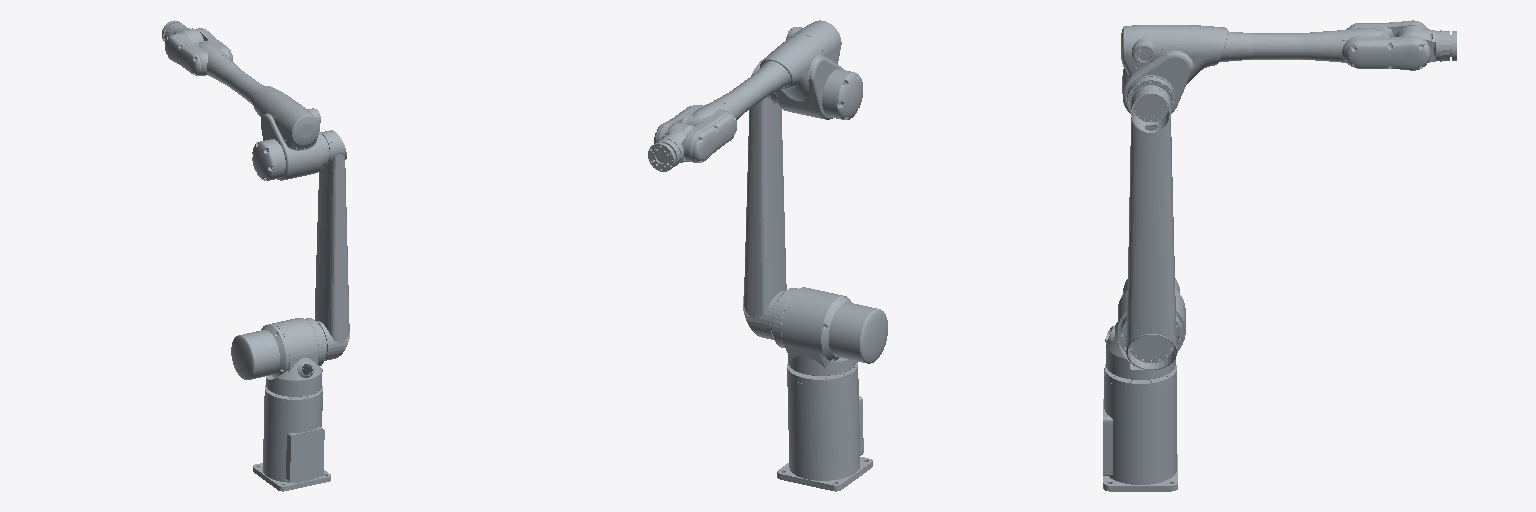
URDF robot description (Elbot_ros):
<?xml version="1.0" encoding="utf-8"?>
<!-- This URDF was automatically created by SolidWorks to URDF Exporter! Originally created by [author] ([email redacted]) 
     Commit Version: 1.6.0-4-g7f85cfe  Build Version: 1.6.7995.38578
     For more information, please see http://wiki.ros.org/sw_urdf_exporter -->
<robot
  name="Elbot_ros">
  <link
    name="base_link">
    <inertial>
      <origin
        xyz="0.00295941310288482 -0.00743196833930476 0.126764065183437"
        rpy="0 0 0" />
      <mass
        value="7.80883668381517" />
      <inertia
        ixx="0.0420498245916264"
        ixy="-2.79755768999179E-08"
        ixz="-0.000422848006205079"
        iyy="0.0424801251330047"
        iyz="-9.64120177077388E-09"
        izz="0.0245930353705393" />
    </inertial>
    <visual>
      <origin
        xyz="0 0 0"
        rpy="0 0 0" />
      <geometry>
        <mesh
          filename="meshes/base_link.STL" />
      </geometry>
      <material
        name="">
        <color
          rgba="0.674509803921569 0.709803921568627 0.737254901960784 1" />
      </material>
    </visual>
    <collision>
      <origin
        xyz="0 0 0"
        rpy="0 0 0" />
      <geometry>
        <mesh
          filename="meshes/base_link.STL" />
      </geometry>
    </collision>
  </link>
  <link
    name="arm1_Link">
    <inertial>
      <origin
        xyz="-0.025031781835328 -0.00487268478781618 0.100589091463699"
        rpy="0 0 0" />
      <mass
        value="0.48129436892084" />
      <inertia
        ixx="0.00117430008000726"
        ixy="7.92805799825543E-07"
        ixz="-1.05282603904915E-06"
        iyy="0.00170833545313737"
        iyz="-2.23208037140393E-06"
        izz="0.00117694469735702" />
    </inertial>
    <visual>
      <origin
        xyz="0 0 0"
        rpy="0 0 0" />
      <geometry>
        <mesh
          filename="meshes/arm1_Link.STL" />
      </geometry>
      <material
        name="">
        <color
          rgba="0.674509803921569 0.709803921568627 0.737254901960784 1" />
      </material>
    </visual>
    <collision>
      <origin
        xyz="0 0 0"
        rpy="0 0 0" />
      <geometry>
        <mesh
          filename="meshes/arm1_Link.STL" />
      </geometry>
    </collision>
  </link>
  <joint
    name="theta1"
    type="continuous">
    <origin
      xyz="0.0069442 0 0.28692"
      rpy="-0.024206 0 -1.5708" />
    <parent
      link="base_link" />
    <child
      link="arm1_Link" />
    <axis
      xyz="0 0 1" />
  </joint>
  <link
    name="arm2_Link">
    <inertial>
      <origin
        xyz="2.19305339069914E-06 0.228629335109454 0.0161610974740906"
        rpy="0 0 0" />
      <mass
        value="0.224698285954227" />
      <inertia
        ixx="0.000235973349843661"
        ixy="8.51433943582718E-09"
        ixz="-1.25761263181806E-08"
        iyy="0.000253881675123096"
        iyz="-1.33902215548025E-05"
        izz="0.000429628860315079" />
    </inertial>
    <visual>
      <origin
        xyz="0 0 0"
        rpy="0 0 0" />
      <geometry>
        <mesh
          filename="meshes/arm2_Link.STL" />
      </geometry>
      <material
        name="">
        <color
          rgba="0.674509803921569 0.709803921568627 0.737254901960784 1" />
      </material>
    </visual>
    <collision>
      <origin
        xyz="0 0 0"
        rpy="0 0 0" />
      <geometry>
        <mesh
          filename="meshes/arm2_Link.STL" />
      </geometry>
    </collision>
  </link>
  <joint
    name="theta2"
    type="continuous">
    <origin
      xyz="-0.025 0.091 0.1005"
      rpy="1.5708 -0.0024813 -3.1416" />
    <parent
      link="arm1_Link" />
    <child
      link="arm2_Link" />
    <axis
      xyz="0 0 1" />
  </joint>
  <link
    name="arm3_Link">
    <inertial>
      <origin
        xyz="5.50885703692883E-07 3.24750299873777E-07 0.0942813065708078"
        rpy="0 0 0" />
      <mass
        value="0.235252200197637" />
      <inertia
        ixx="0.000297517377036216"
        ixy="1.88010496883117E-09"
        ixz="-7.23216666910942E-10"
        iyy="0.000297533754403789"
        iyz="6.23877800862736E-10"
        izz="0.000533086493132978" />
    </inertial>
    <visual>
      <origin
        xyz="0 0 0"
        rpy="0 0 0" />
      <geometry>
        <mesh
          filename="meshes/arm3_Link.STL" />
      </geometry>
      <material
        name="">
        <color
          rgba="0.674509803921569 0.709803921568627 0.737254901960784 1" />
      </material>
    </visual>
    <collision>
      <origin
        xyz="0 0 0"
        rpy="0 0 0" />
      <geometry>
        <mesh
          filename="meshes/arm3_Link.STL" />
      </geometry>
    </collision>
  </link>
  <joint
    name="theta3"
    type="continuous">
    <origin
      xyz="0 0.6 0"
      rpy="3.1415 -7.7002E-05 3.1412" />
    <parent
      link="arm2_Link" />
    <child
      link="arm3_Link" />
    <axis
      xyz="-9.0662E-05 -0.00012137 1" />
  </joint>
  <link
    name="arm4_Link">
    <inertial>
      <origin
        xyz="7.69592982915231E-07 1.75521031264836E-06 0.14118874058488"
        rpy="0 0 0" />
      <mass
        value="1.48290073892508" />
      <inertia
        ixx="0.0063733151684906"
        ixy="1.13369248561194E-09"
        ixz="-5.32334993831461E-08"
        iyy="0.00637331428665315"
        iyz="-1.11766578894513E-07"
        izz="0.000734863912968276" />
    </inertial>
    <visual>
      <origin
        xyz="0 0 0"
        rpy="0 0 0" />
      <geometry>
        <mesh
          filename="meshes/arm4_Link.STL" />
      </geometry>
      <material
        name="">
        <color
          rgba="0.674509803921569 0.709803921568627 0.737254901960784 1" />
      </material>
    </visual>
    <collision>
      <origin
        xyz="0 0 0"
        rpy="0 0 0" />
      <geometry>
        <mesh
          filename="meshes/arm4_Link.STL" />
      </geometry>
    </collision>
  </link>
  <joint
    name="theta4"
    type="continuous">
    <origin
      xyz="-0.139328001364006 0.100000049714036 0.0930033042364249"
      rpy="3.14159265358979 1.5707963267949 0" />
    <parent
      link="arm3_Link" />
    <child
      link="arm4_Link" />
    <axis
      xyz="0 0 0.999999999962565" />
  </joint>
  <link
    name="arm5_Link">
    <inertial>
      <origin
        xyz="-0.0382958184594028 1.69025638931952E-05 0.0360125184128005"
        rpy="0 0 0" />
      <mass
        value="0.292551415172904" />
      <inertia
        ixx="0.000190330052195625"
        ixy="4.20379213760693E-07"
        ixz="3.33221181951922E-07"
        iyy="0.000204819861234067"
        iyz="-1.06268804786346E-07"
        izz="0.000303621539321977" />
    </inertial>
    <visual>
      <origin
        xyz="0 0 0"
        rpy="0 0 0" />
      <geometry>
        <mesh
          filename="meshes/arm5_Link.STL" />
      </geometry>
      <material
        name="">
        <color
          rgba="0.674509803921569 0.709803921568627 0.737254901960784 1" />
      </material>
    </visual>
    <collision>
      <origin
        xyz="0 0 0"
        rpy="0 0 0" />
      <geometry>
        <mesh
          filename="meshes/arm5_Link.STL" />
      </geometry>
    </collision>
  </link>
  <joint
    name="theta5"
    type="continuous">
    <origin
      xyz="0.0360031369350031 0 0.457746768693452"
      rpy="1.19658489760141 1.57077884093144 -1.94500775593408" />
    <parent
      link="arm4_Link" />
    <child
      link="arm5_Link" />
    <axis
      xyz="0 0 1" />
  </joint>
  <link
    name="arm6_Link">
    <inertial>
      <origin
        xyz="1.98640850213039E-07 -0.000138218519929802 0.00216138199384996"
        rpy="0 0 0" />
      <mass
        value="0.0290061921693198" />
      <inertia
        ixx="1.03433141143914E-05"
        ixy="-6.18382345917164E-12"
        ixz="1.89059954303282E-12"
        iyy="1.0472342349351E-05"
        iyz="-6.47228188158355E-10"
        izz="2.03986639183088E-05" />
    </inertial>
    <visual>
      <origin
        xyz="0 0 0"
        rpy="0 0 0" />
      <geometry>
        <mesh
          filename="meshes/arm6_Link.STL" />
      </geometry>
      <material
        name="">
        <color
          rgba="0.674509803921569 0.709803921568627 0.737254901960784 1" />
      </material>
    </visual>
    <collision>
      <origin
        xyz="0 0 0"
        rpy="0 0 0" />
      <geometry>
        <mesh
          filename="meshes/arm6_Link.STL" />
      </geometry>
    </collision>
  </link>
  <joint
    name="theta6"
    type="continuous">
    <origin
      xyz="-0.0919195413583693 -1.26370777393525E-05 0.0357989985495665"
      rpy="1.5707963267949 0 -1.5707963267949" />
    <parent
      link="arm5_Link" />
    <child
      link="arm6_Link" />
    <axis
      xyz="0 0 0.999999999999926" />
  </joint>
</robot>

--- Facts derived from the render (not from the file) ---
The picture shows the robot from 3 angles, left to right: view 1: azimuth 30°, elevation 25°; view 2: azimuth 150°, elevation 25°; view 3: azimuth 270°, elevation 25°; orthographic projection.
Model Elbot_ros with 7 links and 6 joints (6 continuous), rooted at base_link, posed all joints at 0.
Visible links, largest first — view 1: arm2_Link, base_link, arm1_Link, arm3_Link, arm4_Link; view 2: base_link, arm2_Link, arm1_Link, arm3_Link, arm4_Link, arm5_Link, arm6_Link; view 3: arm2_Link, base_link, arm4_Link, arm3_Link, arm1_Link, arm5_Link.
Boxes of the visible links, x1,y1,x2,y2 form: arm2_Link: [315, 130, 349, 360]; base_link: [253, 385, 330, 491]; arm1_Link: [231, 318, 326, 396]; arm3_Link: [252, 86, 329, 180]; arm4_Link: [165, 28, 263, 105]; base_link: [777, 362, 872, 491]; arm2_Link: [743, 58, 786, 339]; arm1_Link: [771, 287, 887, 375]; arm3_Link: [760, 20, 862, 119]; arm4_Link: [654, 61, 790, 162]; arm5_Link: [657, 123, 694, 166]; arm6_Link: [648, 142, 675, 171]; arm2_Link: [1126, 86, 1176, 369]; base_link: [1103, 364, 1177, 491]; arm4_Link: [1219, 20, 1430, 70]; arm3_Link: [1121, 25, 1227, 113]; arm1_Link: [1105, 278, 1185, 379]; arm5_Link: [1395, 25, 1451, 62].
Size in the robot's own frame: 0.3454 by 0.8044 by 1.14 metres.
7 mesh visuals loaded from 7 distinct referenced files (7 binary STL).